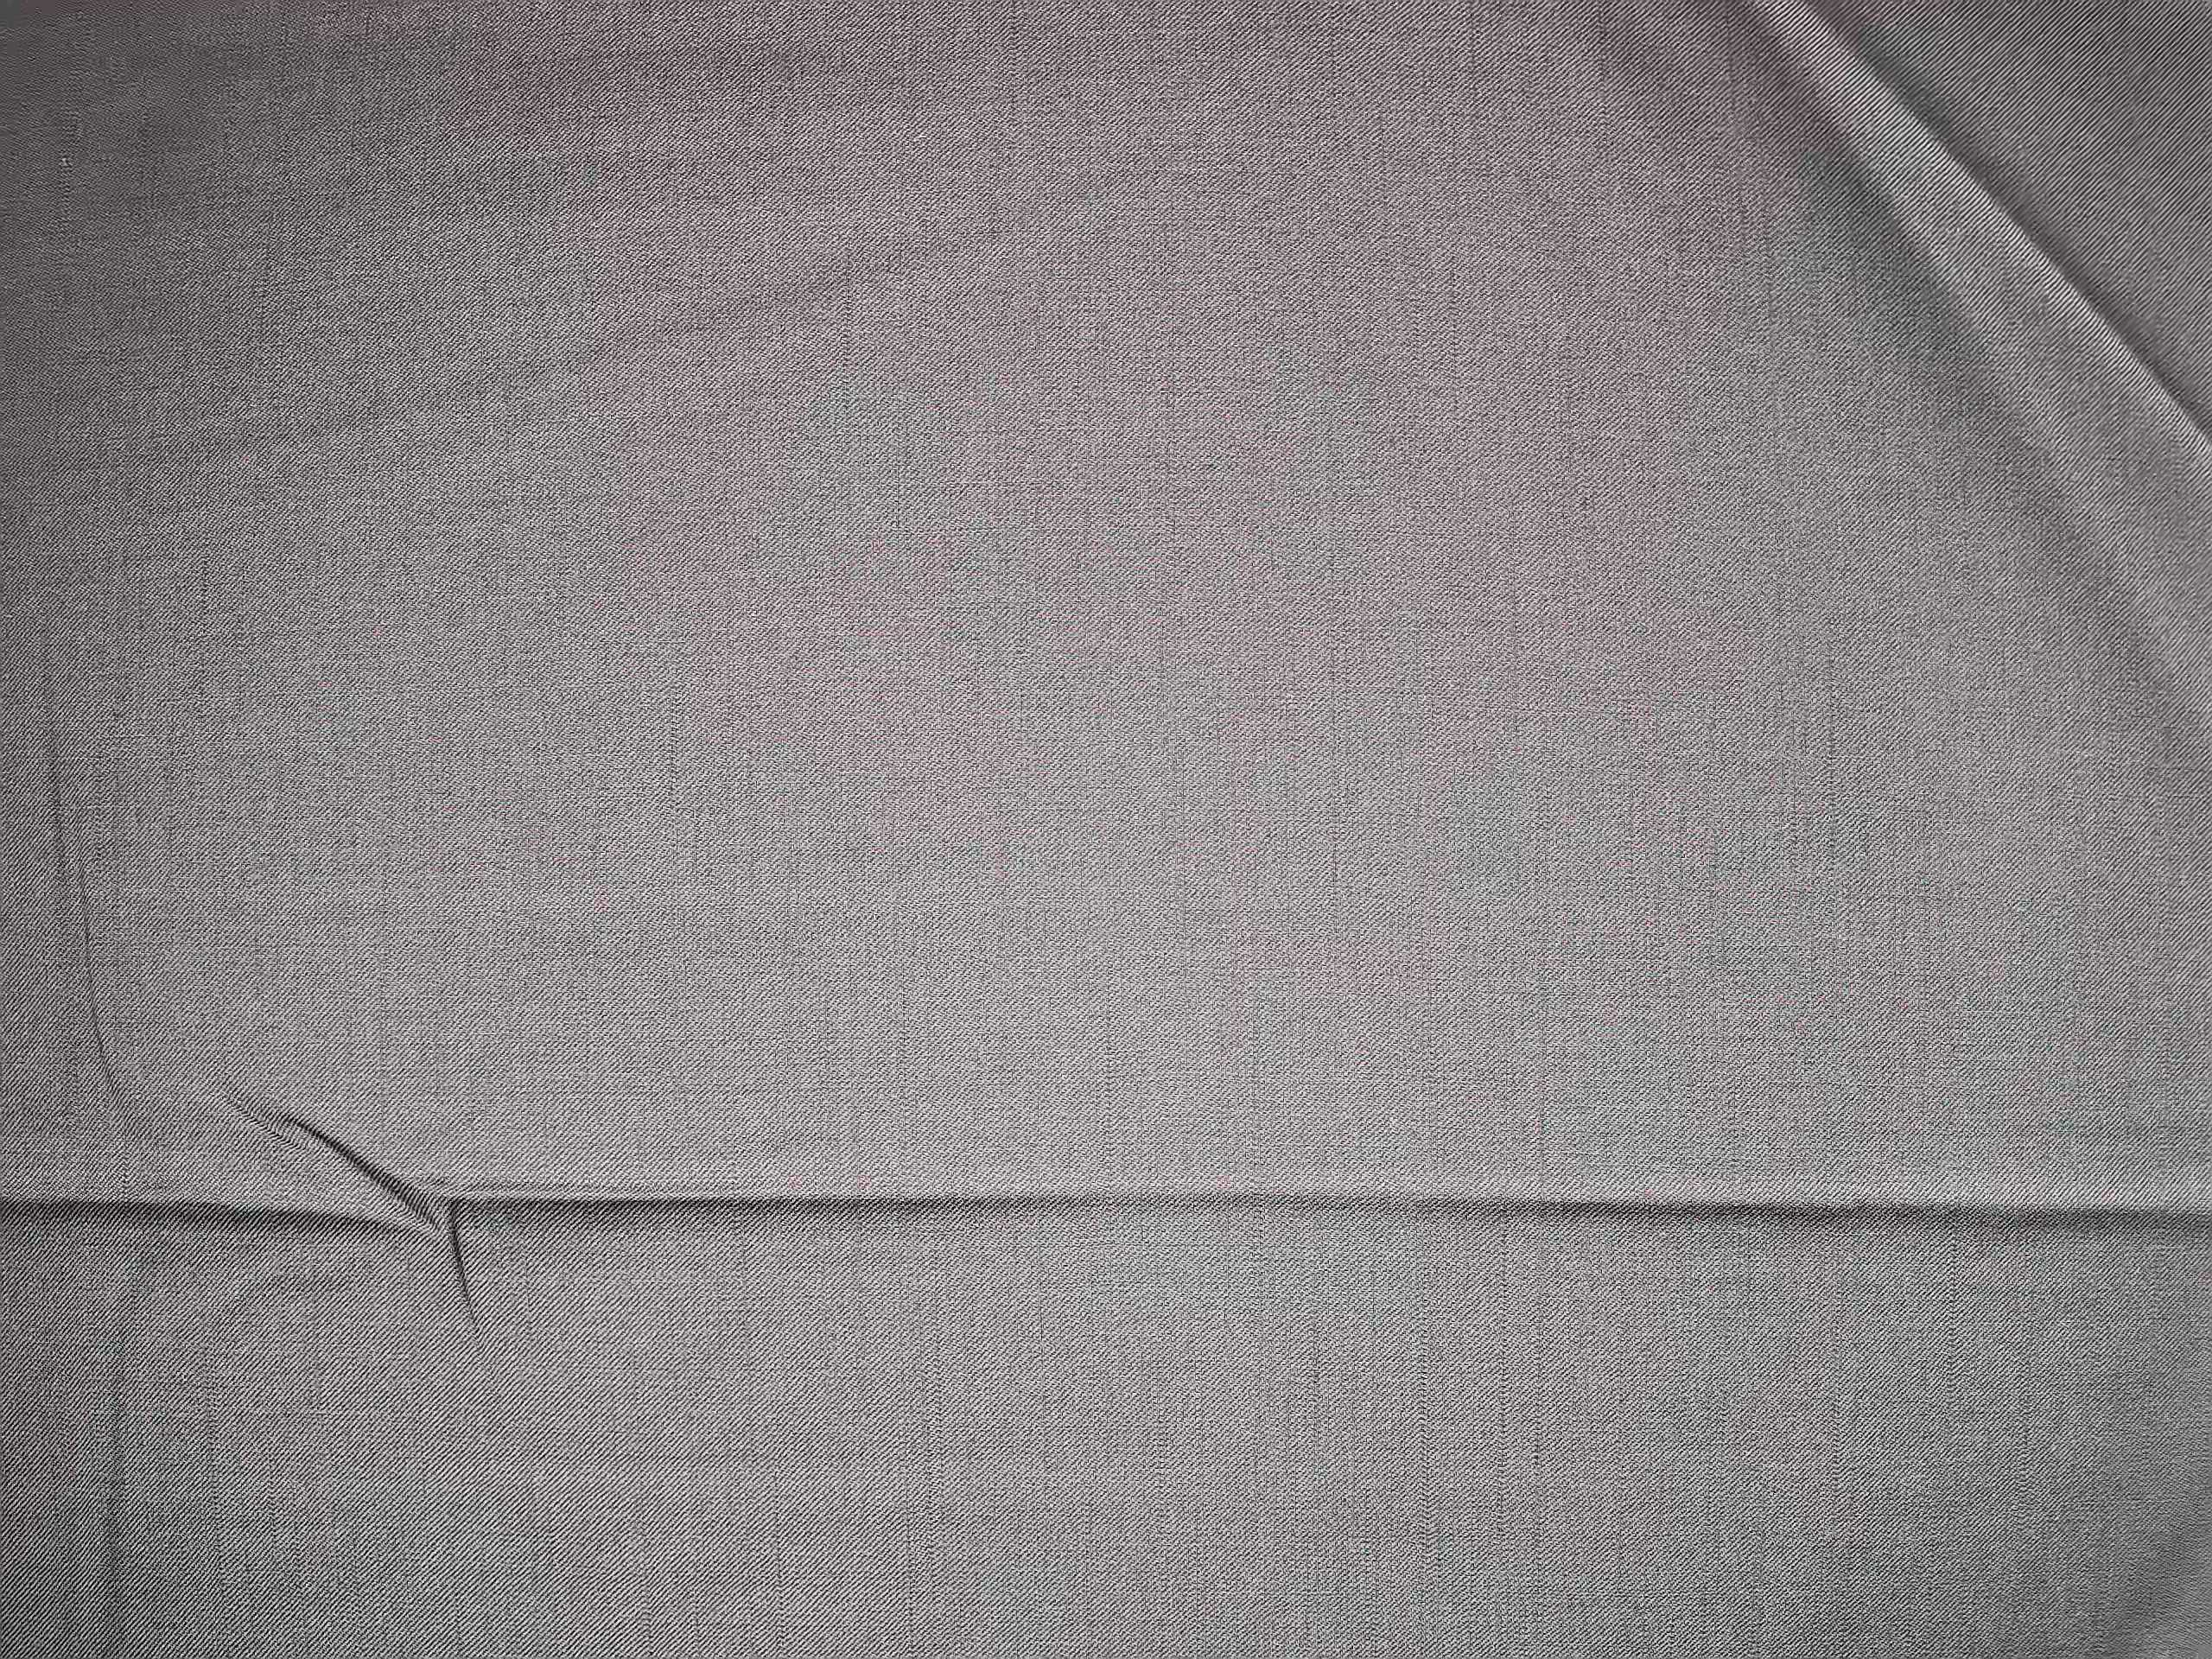hanging-warp: (1527, 767, 1566, 1595), (1822, 1249, 1862, 1605), (1411, 1171, 1439, 1633), (1487, 1162, 1512, 1574), (831, 223, 866, 437), (2010, 1314, 2040, 1547), (1822, 626, 1844, 870), (1946, 1166, 1965, 1425)
